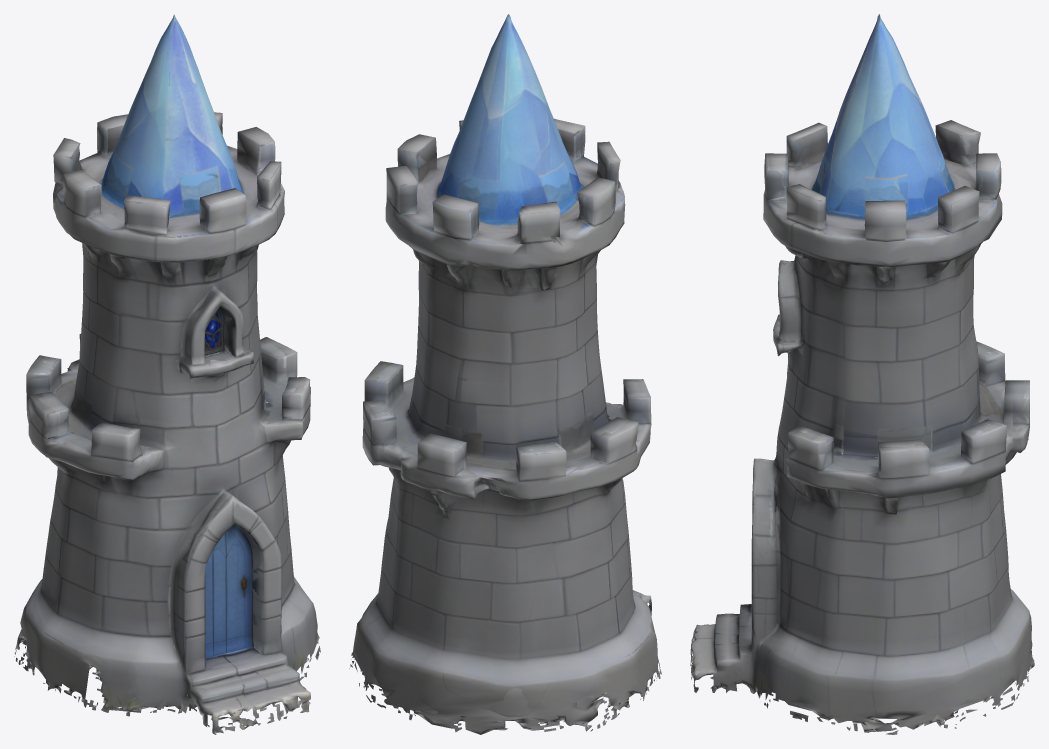
The model's file is Medieval_Tower_0610031030_texture.fbx.
3 views of the same model, side by side, from view 1: azimuth 30°, elevation 25°; view 2: azimuth 150°, elevation 25°; view 3: azimuth 270°, elevation 25° (orthographic). The views are drawn at different scales.
Visible parts, largest first — view 1: Mesh1; view 2: Mesh1; view 3: Mesh1.
Boxes of the visible parts, x1,y1,x2,y2 form: Mesh1: [14, 14, 320, 734]; Mesh1: [349, 14, 661, 734]; Mesh1: [690, 14, 1034, 734].
Bounding box in the file's own units: 84.16 × 200 × 94.99.
Materials: 1 (1 with a texture image).
